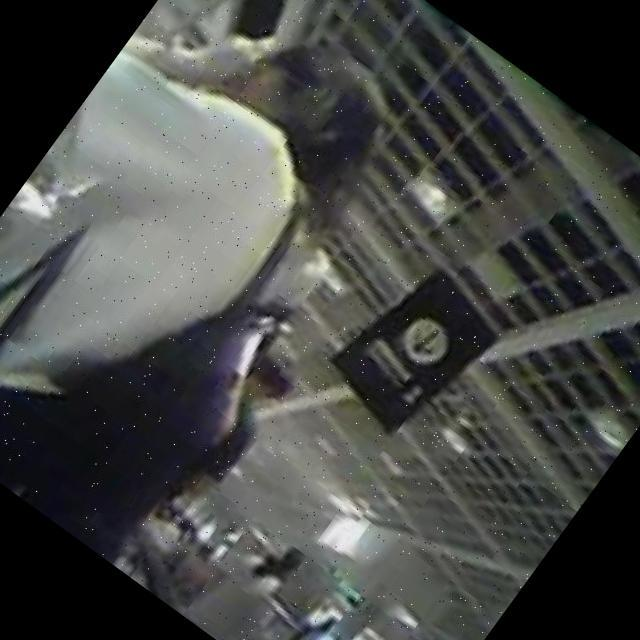person: (0, 0, 427, 567), (159, 335, 313, 519), (185, 518, 310, 640), (300, 597, 460, 640)
